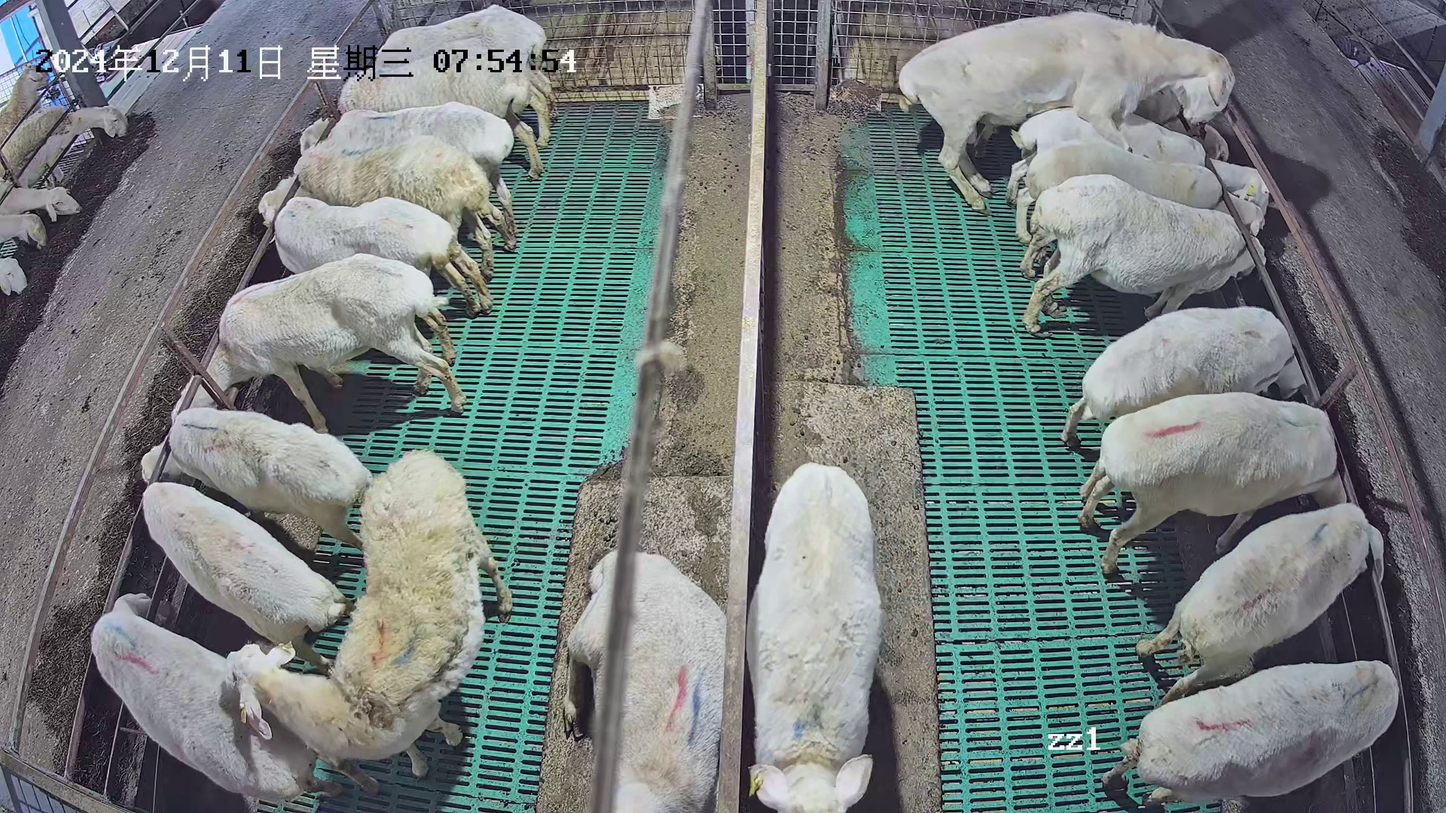Smounting: (892, 10, 1273, 251)
mounted: (1005, 103, 1271, 247)
